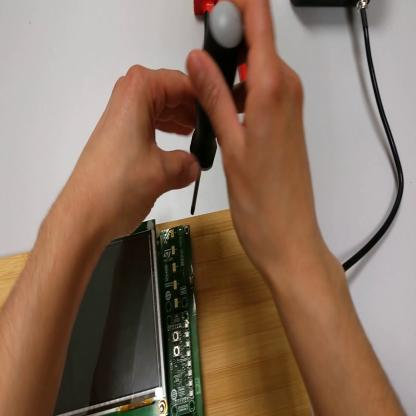hand: (191, 4, 321, 274), (79, 59, 206, 243)
low voltage board: (54, 220, 205, 416)
screwdriver-: (189, 1, 251, 218)
welder station: (292, 1, 370, 10)
working area: (2, 211, 313, 415)
